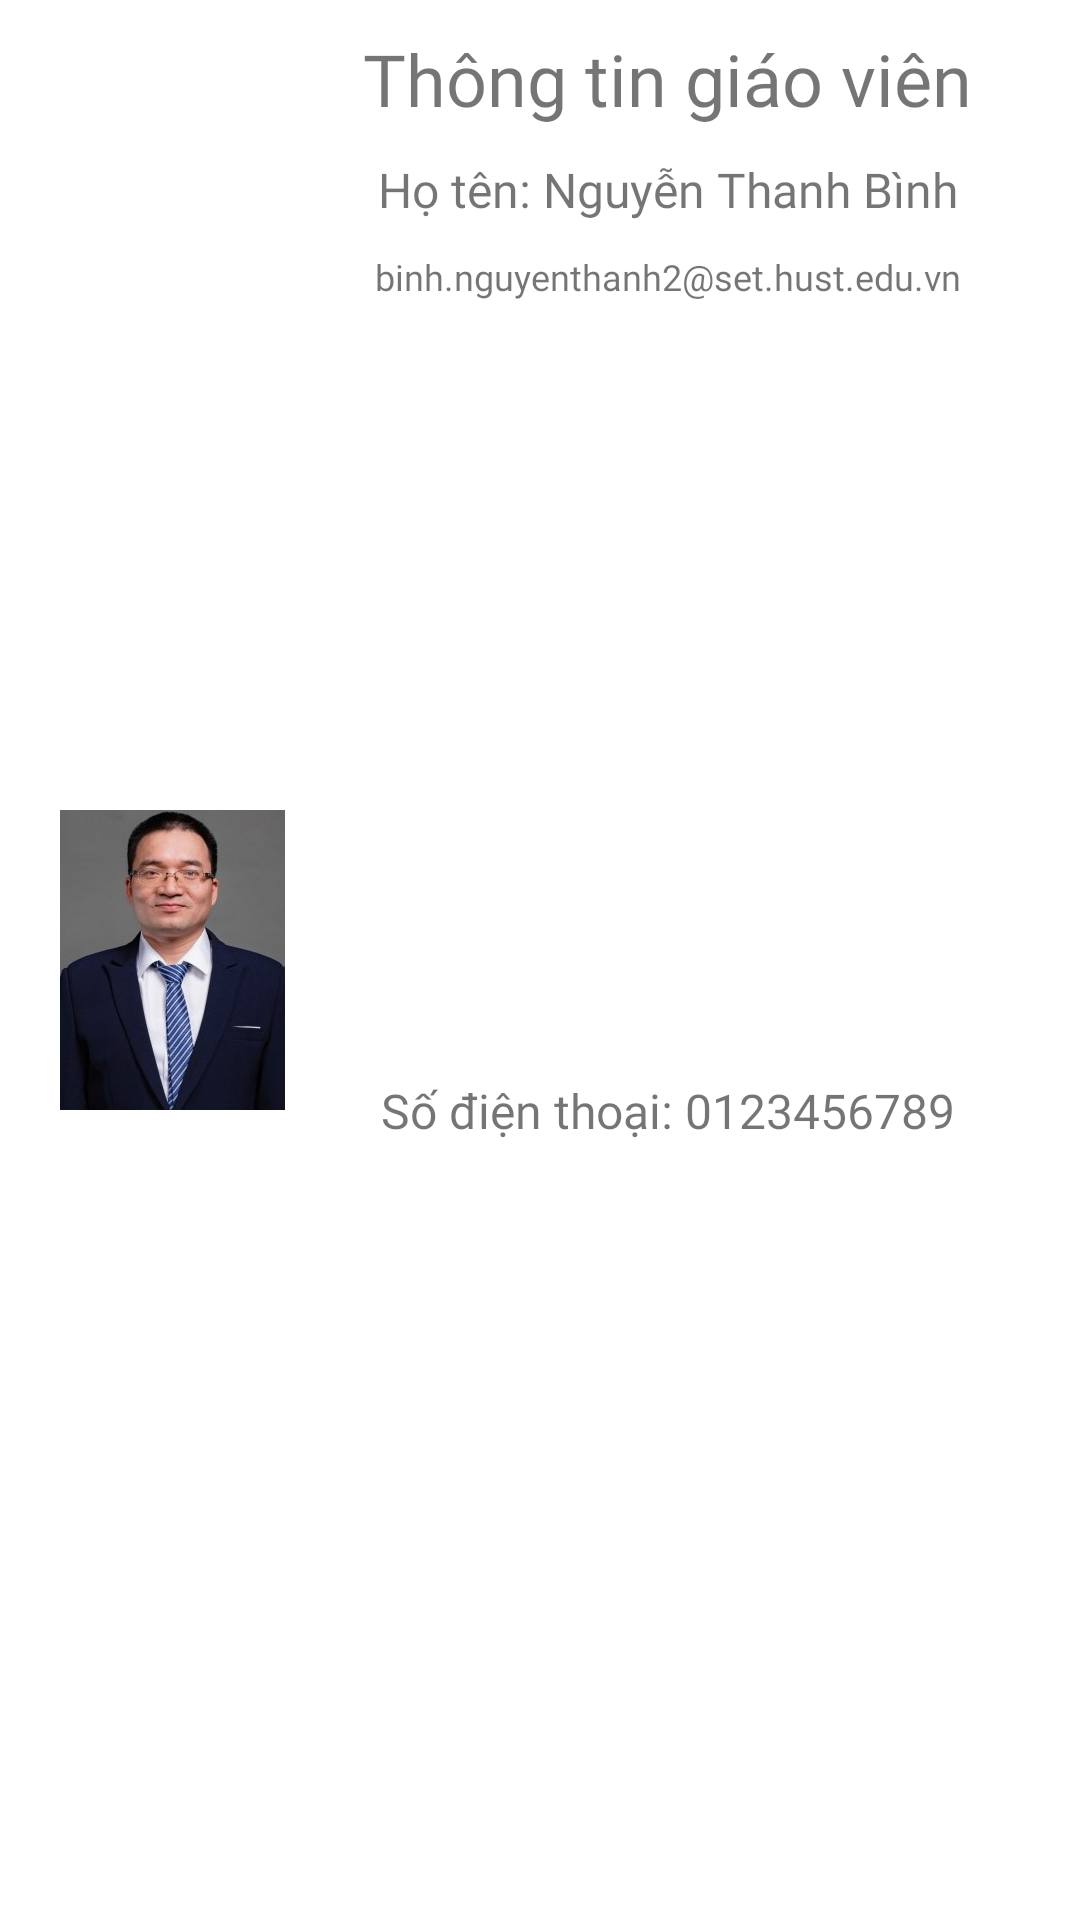

Where icons sit on this 1080*1920 app screen, as (x1, y1, x2, y2):
teacher: (60, 810, 285, 1110)
